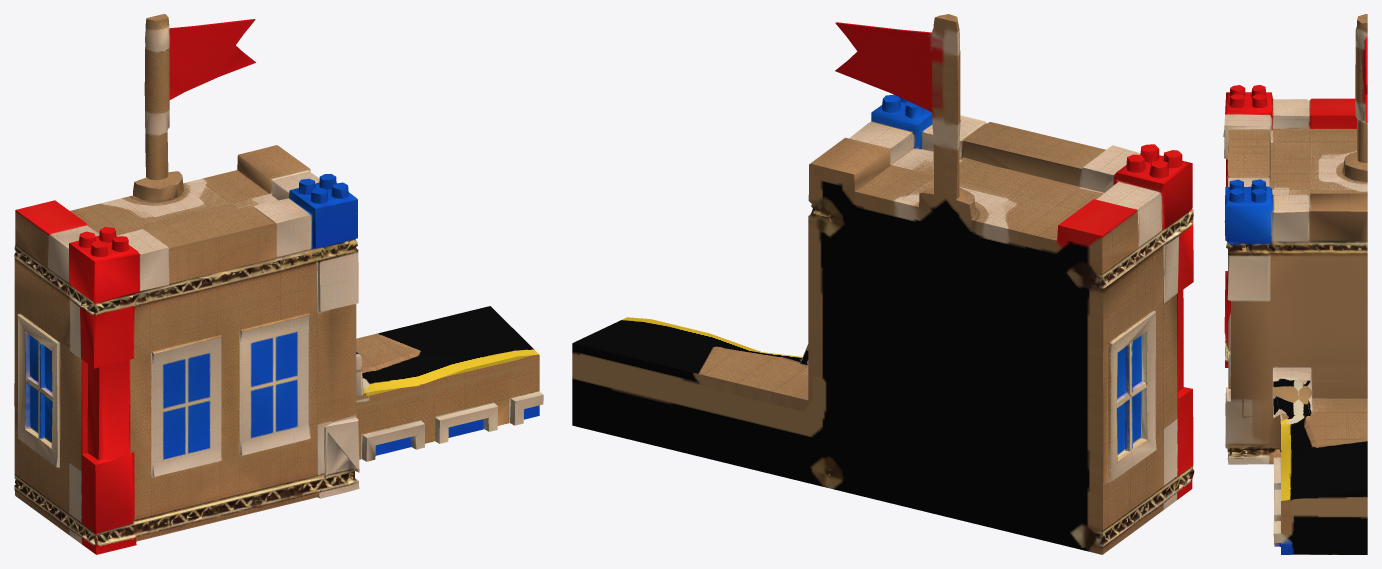
Rendered from 13-topper-front-left.fbx.
The picture shows the model from 3 angles, left to right: view 1: azimuth 30°, elevation 25°; view 2: azimuth 150°, elevation 25°; view 3: azimuth 270°, elevation 25°; orthographic projection. The views are drawn at different scales.
Visible parts, largest first — view 1: topper-front-left; view 2: topper-front-left; view 3: topper-front-left.
Boxes of the visible parts, x1,y1,x2,y2 form: topper-front-left: [14, 14, 543, 554]; topper-front-left: [572, 14, 1194, 554]; topper-front-left: [1223, 14, 1367, 554].
Bounding box in the file's own units: 10487 × 9326 × 3103.
Materials: 1 (1 with a texture image).
